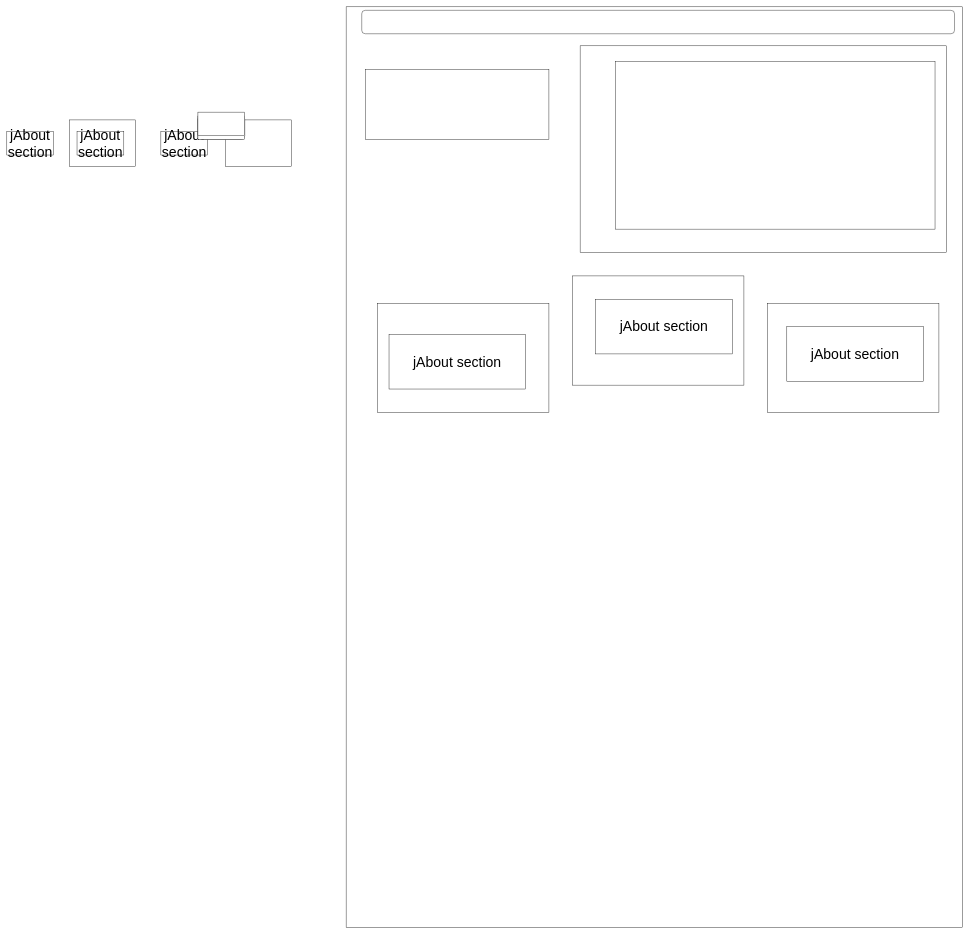
The diagram is 969 pixels wide and 934 high, and some of its shapes have lost their labels. Each missing label, with the centre of its shape:
Hero section Photio: [775,145]
HERO TExt Section: [457,104]
Navbar section: [658,22]
